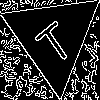T: (28, 13, 77, 68)
